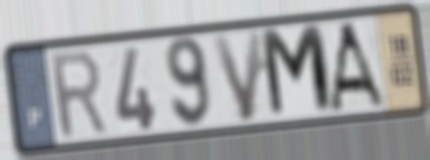4: (112, 41, 159, 133)
9: (163, 33, 214, 133)
A: (327, 19, 389, 113)
M: (257, 20, 338, 123)
R: (46, 47, 111, 143)
V: (209, 26, 266, 126)
